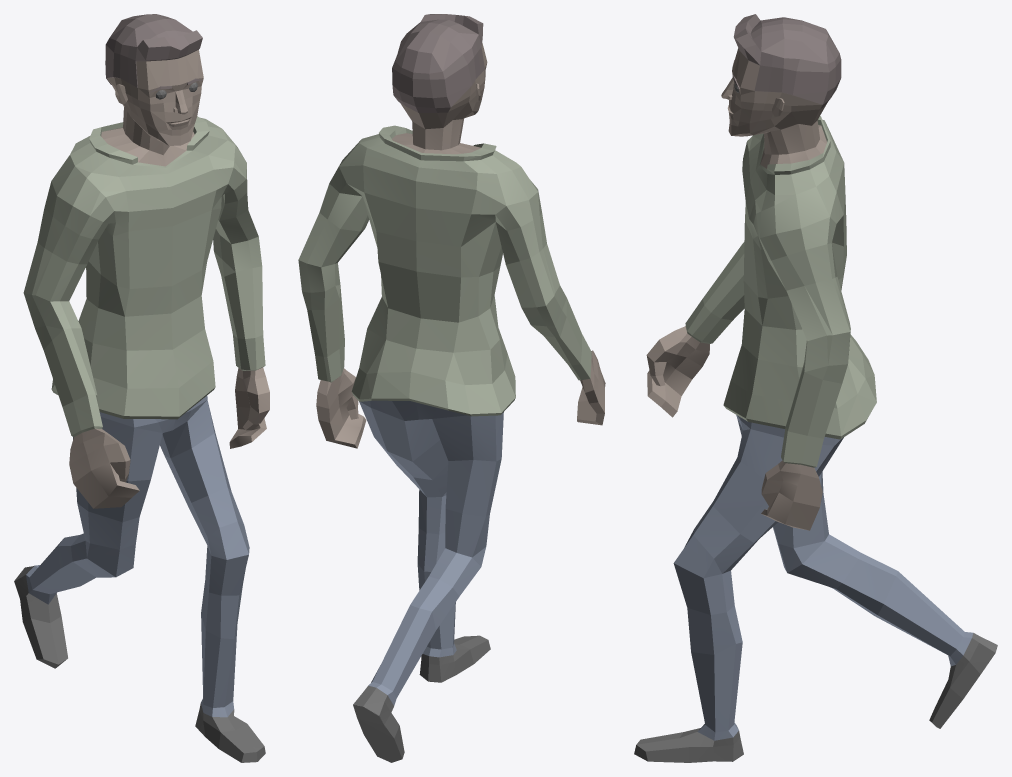
The model's file is walk_5.glb.
3 renders of one model, left to right at view 1: azimuth 30°, elevation 25°; view 2: azimuth 150°, elevation 25°; view 3: azimuth 270°, elevation 25°, orthographic. The views are drawn at different scales.
Visible parts, largest first — view 1: BaseHuman_baked; view 2: BaseHuman_baked; view 3: BaseHuman_baked.
Part boxes in pixels (left/top/right/bottom): BaseHuman_baked: left=14, top=14, right=269, bottom=762; BaseHuman_baked: left=298, top=14, right=605, bottom=762; BaseHuman_baked: left=634, top=14, right=997, bottom=762.
Size of the model in its own units: 1.68 by 4.61 by 2.12.
